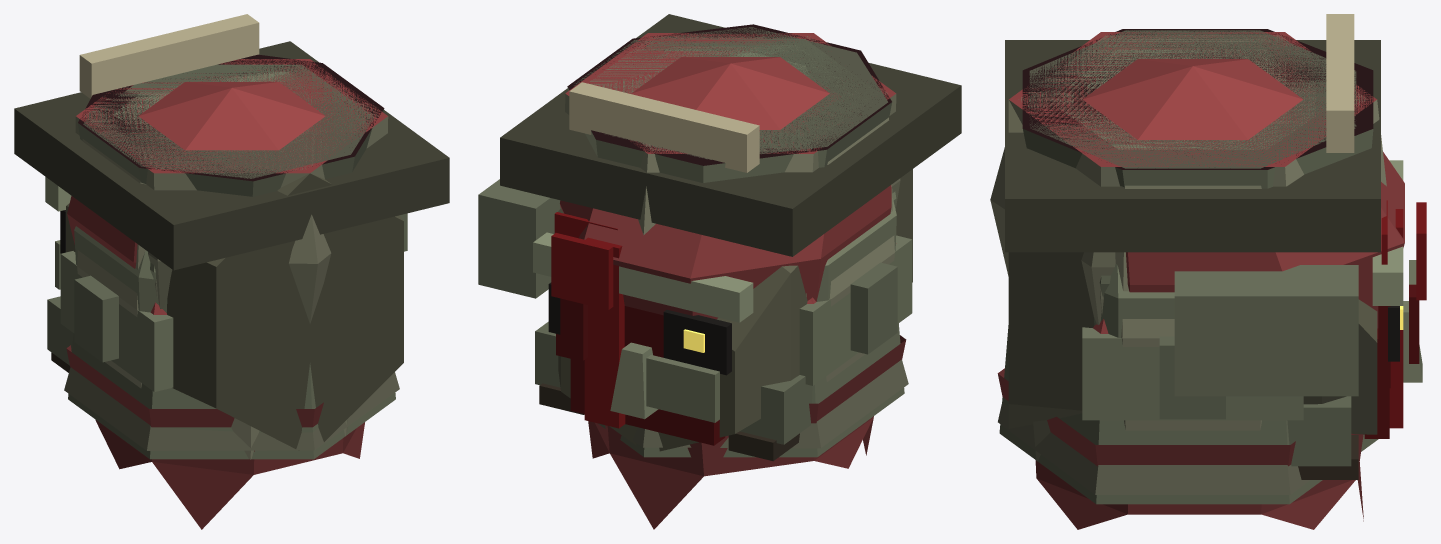
The model's file is boomer.glb.
The picture shows the model from 3 angles, left to right: view 1: azimuth 30°, elevation 25°; view 2: azimuth 150°, elevation 25°; view 3: azimuth 270°, elevation 25°; orthographic projection. The views are drawn at different scales.
Visible parts, largest first — view 1: hips, footR, headJaw, uArmR, shinR, uArmDeltR, torso, handR, head, neck, fArmR, thighR; view 2: hips, torso, headJaw, handR, head, footR, fArmR, uArmDeltR, uArmR, shinR, neck, thighR (+1 smaller); view 3: hips, handR, headJaw, uArmR, footR, torso, shinR, uArmDeltR, head, neck, thighR, fArmR.
Boxes of the visible parts, x1=… form: hips: x1=14, y1=41, x2=449, y2=459; footR: x1=66, y1=173, x2=403, y2=450; headJaw: x1=78, y1=14, x2=384, y2=196; uArmR: x1=66, y1=59, x2=387, y2=427; shinR: x1=64, y1=62, x2=399, y2=450; uArmDeltR: x1=138, y1=82, x2=325, y2=150; torso: x1=55, y1=134, x2=364, y2=529; handR: x1=47, y1=71, x2=407, y2=391; head: x1=45, y1=177, x2=167, y2=362; neck: x1=68, y1=333, x2=395, y2=459; fArmR: x1=91, y1=64, x2=372, y2=282; thighR: x1=75, y1=116, x2=388, y2=297; hips: x1=500, y1=14, x2=961, y2=381; torso: x1=551, y1=52, x2=891, y2=529; headJaw: x1=567, y1=24, x2=892, y2=428; handR: x1=478, y1=45, x2=912, y2=461; head: x1=533, y1=198, x2=897, y2=419; footR: x1=558, y1=169, x2=912, y2=451; fArmR: x1=570, y1=39, x2=896, y2=445; uArmDeltR: x1=631, y1=57, x2=829, y2=303; uArmR: x1=565, y1=33, x2=906, y2=423; shinR: x1=590, y1=36, x2=908, y2=448; neck: x1=598, y1=323, x2=904, y2=457; thighR: x1=556, y1=94, x2=896, y2=361; hips: x1=1005, y1=30, x2=1380, y2=461; handR: x1=1048, y1=49, x2=1358, y2=479; headJaw: x1=1022, y1=14, x2=1403, y2=428; uArmR: x1=997, y1=32, x2=1376, y2=466; footR: x1=1008, y1=100, x2=1377, y2=434; torso: x1=1035, y1=75, x2=1426, y2=529; shinR: x1=990, y1=35, x2=1367, y2=494; uArmDeltR: x1=1082, y1=59, x2=1302, y2=333; head: x1=1093, y1=160, x2=1422, y2=419; neck: x1=999, y1=325, x2=1378, y2=504; thighR: x1=1009, y1=100, x2=1390, y2=388; fArmR: x1=1028, y1=39, x2=1389, y2=438.
Bounding box in the file's own units: 1.15 × 1.38 × 1.18.
